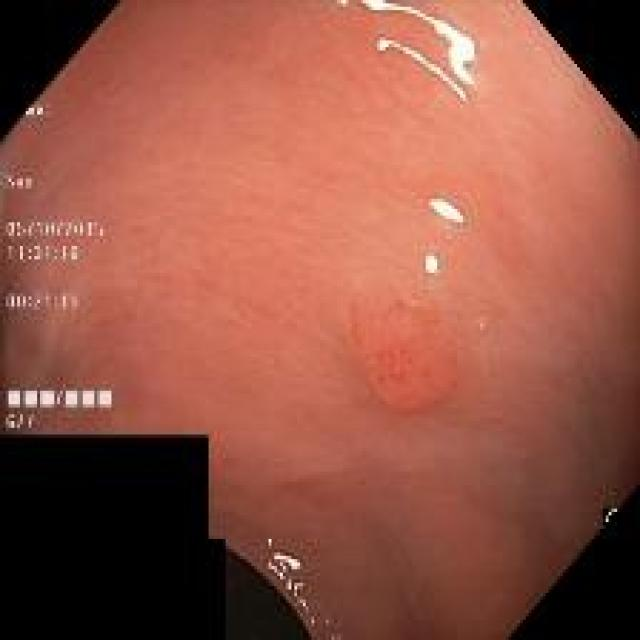Polyps: (348, 290, 458, 413)
